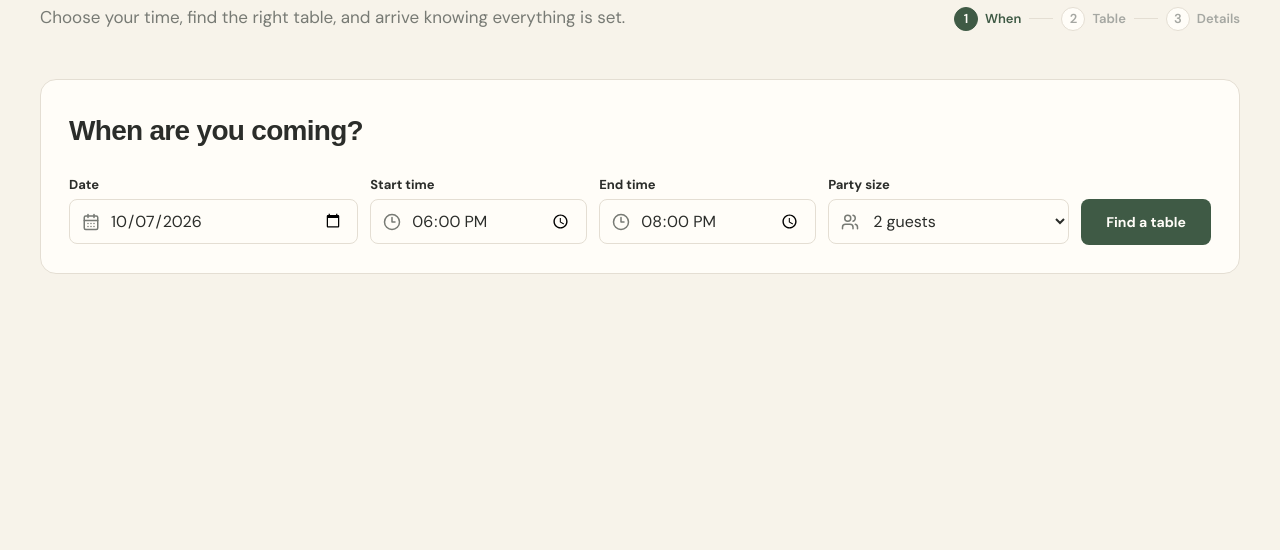
Test case: public reservation flow › moves from availability search to a calm confirmation
Step 1. Click the button "Find a table" → (1146, 222), box [1081,199,1211,245]
(page scrolled)
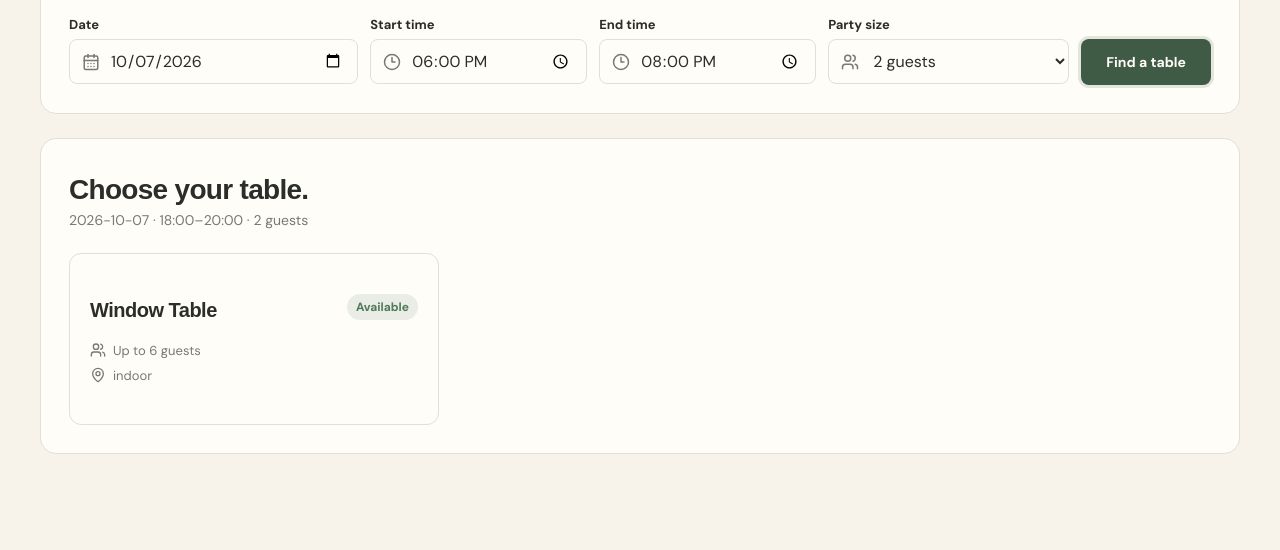
Step 2. Click the button "Window Table Available Up to 6 guests indoor" → (153, 310), box [69,253,439,425]
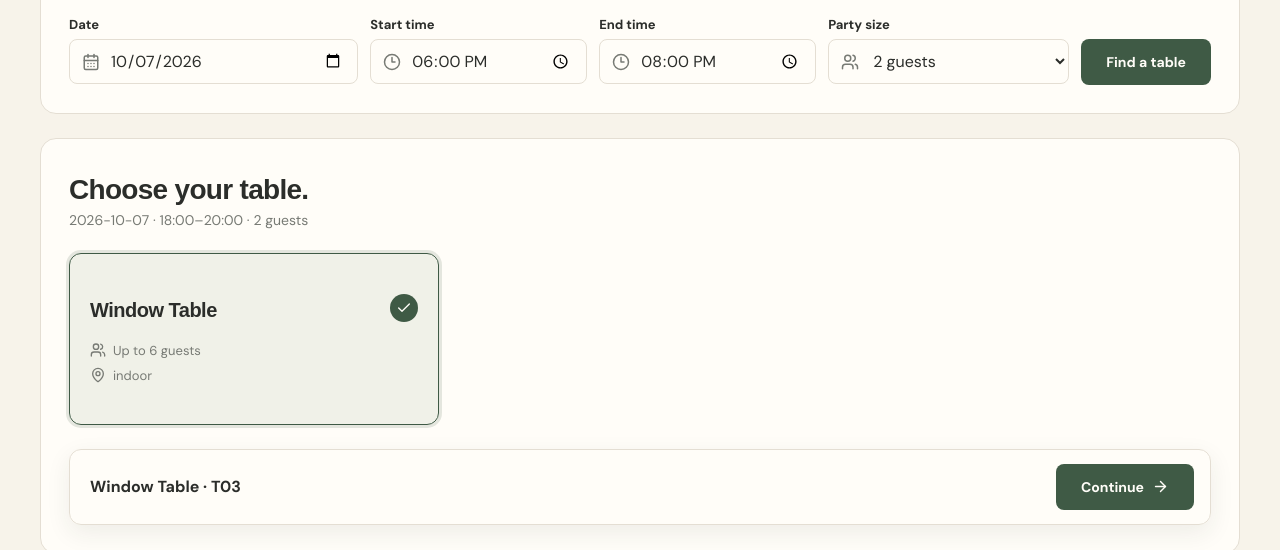
Step 3. Click the button "Continue" → (1125, 487), box [1056,464,1194,510]
(page scrolled)
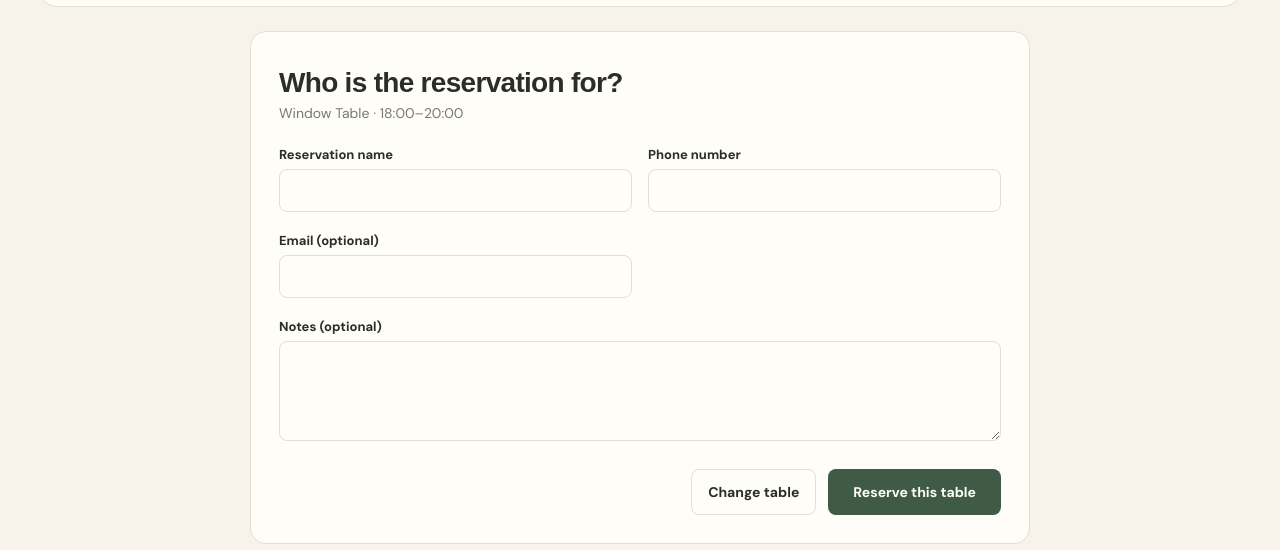
Step 4. Type "Zaidan Daffa" into the field labelled "Reservation name" → (456, 190), box [279,169,632,212]
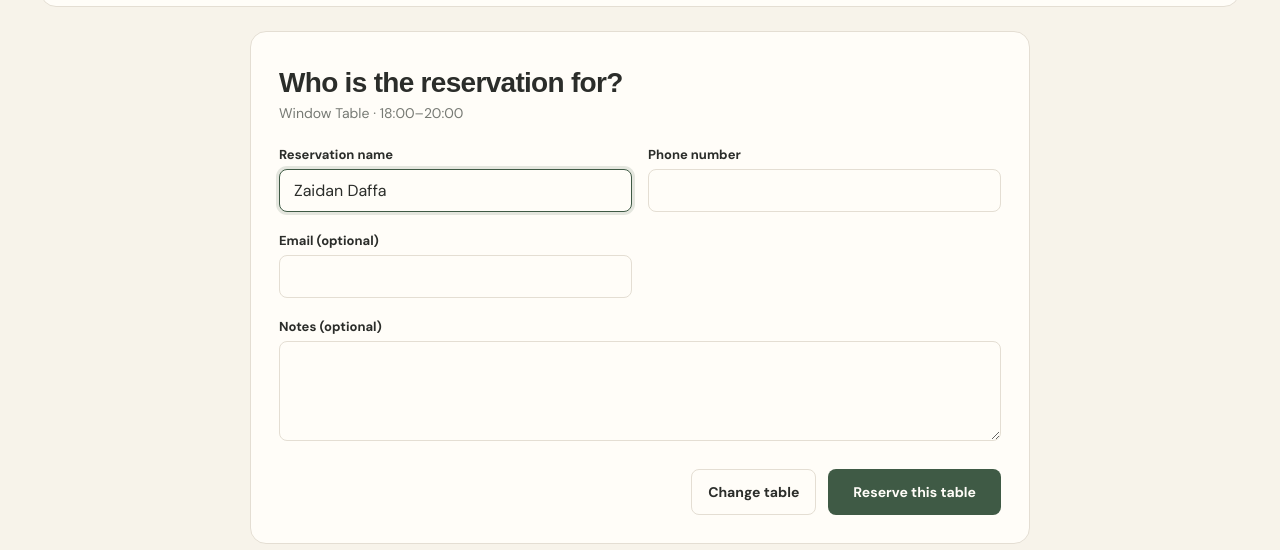
Step 5. Type "081234567890" into the field labelled "Phone number" → (824, 190), box [648,169,1001,212]
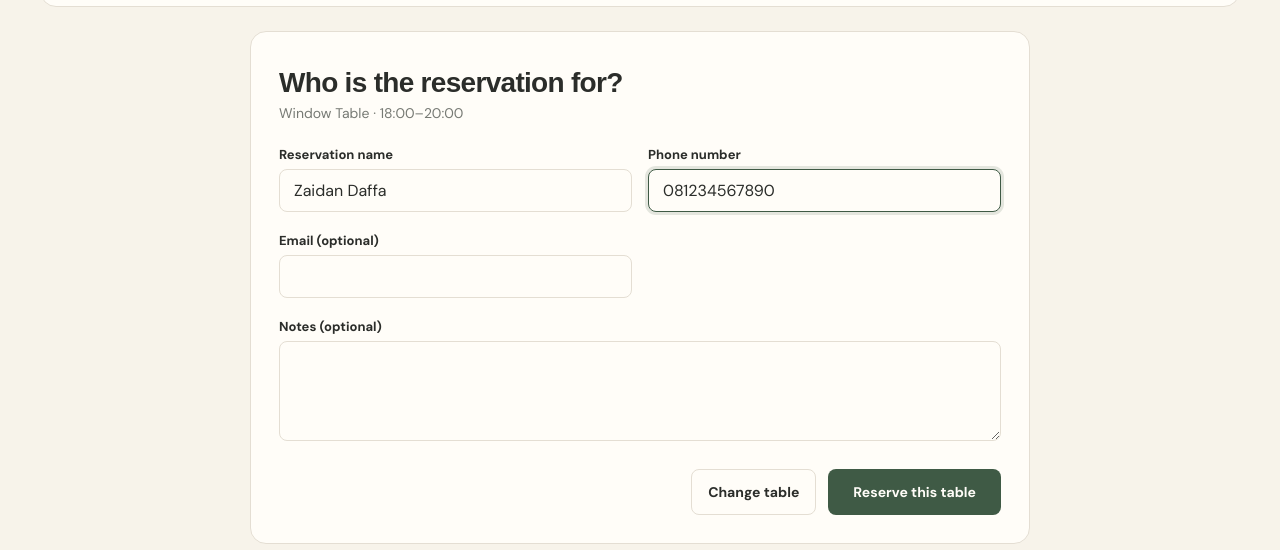
Step 6. Click the button "Reserve this table" → (915, 492), box [828,469,1001,515]
(page scrolled)
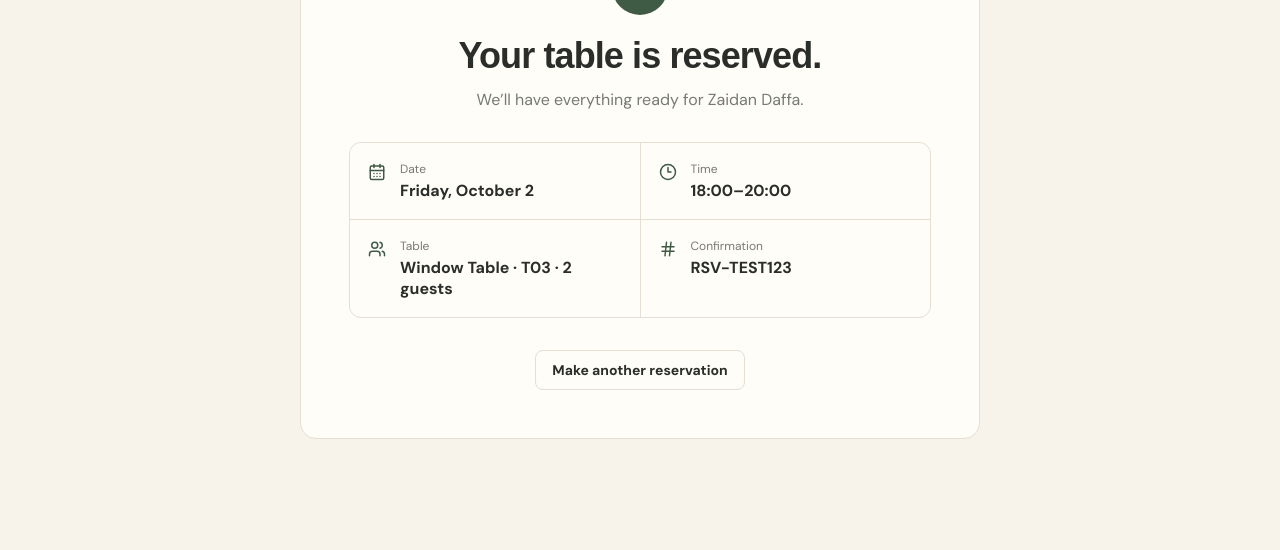
Result: the heading "Your table is reserved." is shown at [459,35,821,76]
Result: the text "RSV-TEST123" is shown at [690,257,792,278]
